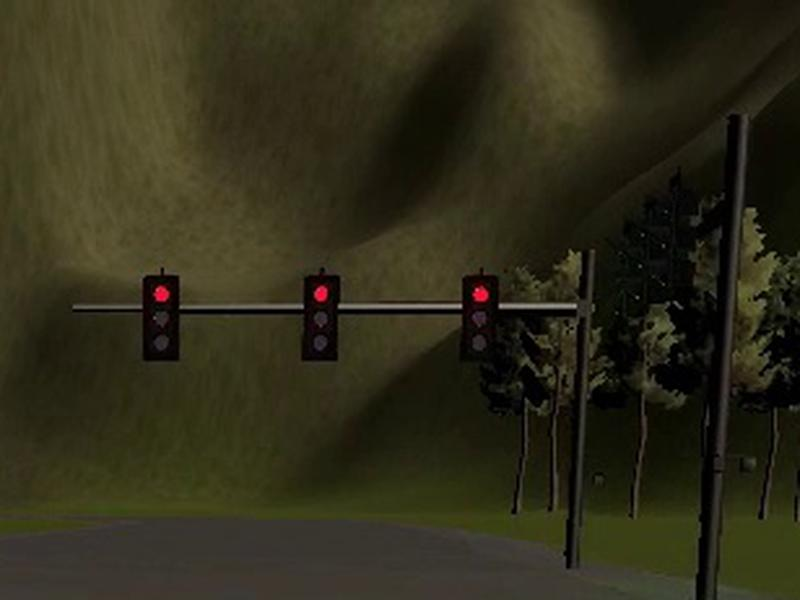Red: (301, 274, 341, 361), (461, 275, 498, 359), (143, 275, 179, 361)
